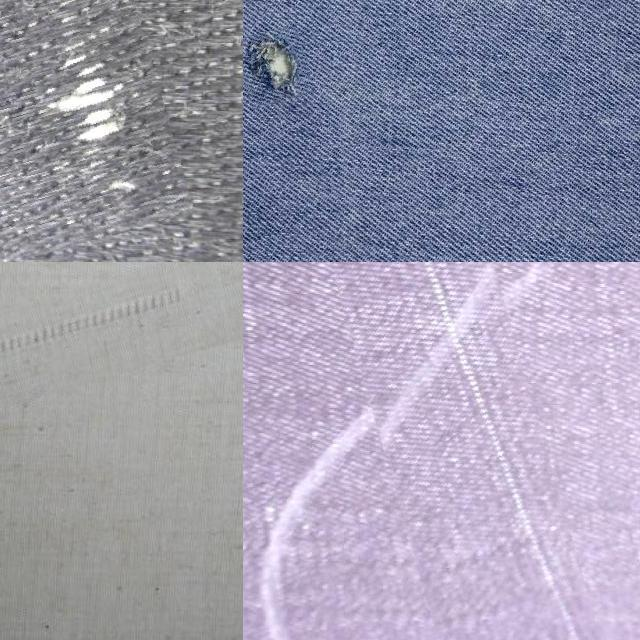Thread_other: (324, 262, 564, 640), (0, 271, 243, 441)
seam: (243, 27, 310, 107)
